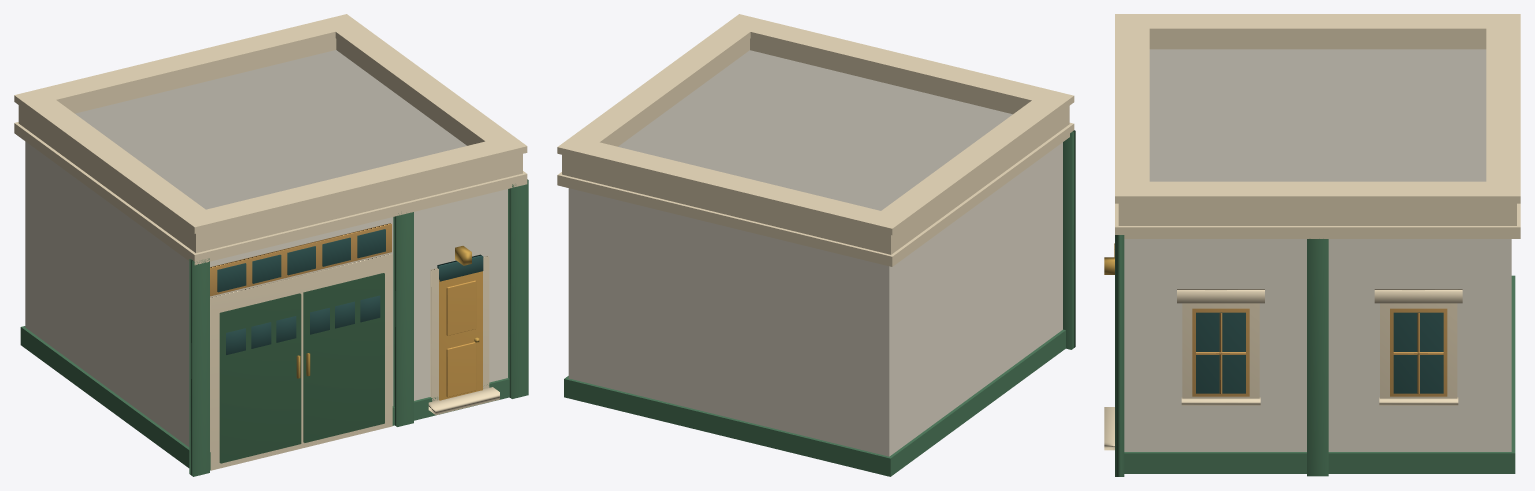
The model's file is building_workshop_low.glb.
3 views of the same model, side by side, from view 1: azimuth 30°, elevation 25°; view 2: azimuth 150°, elevation 25°; view 3: azimuth 270°, elevation 25° (orthographic). The views are drawn at different scales.
Parts seen in each view (by area): view 1: WallGround, Roof, ParapetCap, Parapet, Garage-1, Garage1, GarageFrame, Cornice, Pier0.00, GreenBase, Pier4.56, Pier2.92 (+12 smaller); view 2: WallGround, Roof, ParapetCap, Parapet, GreenBase, Cornice, Pier0.00; view 3: WallGround, Roof, ParapetCap, Parapet, GreenBase, Cornice, SidePier2.14, SW1Glass, SW0Glass, SW0Surround, SW1Surround, Pier4.56 (+7 smaller).
Part boxes in pixels (box(x1,y1,x2,y2)): WallGround: box(25, 141, 507, 446); Roof: box(75, 50, 466, 209); ParapetCap: box(14, 14, 527, 233); Parapet: box(18, 38, 522, 252); Garage-1: box(219, 293, 301, 463); Garage1: box(303, 273, 384, 442); GarageFrame: box(210, 253, 392, 470); Cornice: box(14, 122, 527, 265); Pier0.00: box(189, 258, 209, 476); GreenBase: box(20, 326, 509, 470); Pier4.56: box(508, 179, 528, 398); Pier2.92: box(393, 212, 413, 426); WallGround: box(568, 142, 1062, 456); Roof: box(618, 50, 1012, 210); ParapetCap: box(557, 14, 1074, 235); Parapet: box(562, 38, 1069, 254); GreenBase: box(564, 329, 1065, 476); Cornice: box(557, 122, 1074, 266); Pier0.00: box(1063, 130, 1075, 349); WallGround: box(1124, 239, 1511, 451); Roof: box(1149, 49, 1486, 181); ParapetCap: box(1115, 14, 1520, 203); Parapet: box(1118, 36, 1516, 225); GreenBase: box(1124, 275, 1515, 473); Cornice: box(1115, 203, 1520, 238); SidePier2.14: box(1307, 239, 1328, 476); SW1Glass: box(1393, 312, 1443, 393); SW0Glass: box(1196, 312, 1245, 393); SW0Surround: box(1182, 303, 1259, 398); SW1Surround: box(1380, 303, 1457, 398); Pier4.56: box(1115, 235, 1124, 476).
Bounding box in the file's own units: 4.8 × 3.41 × 4.6.
